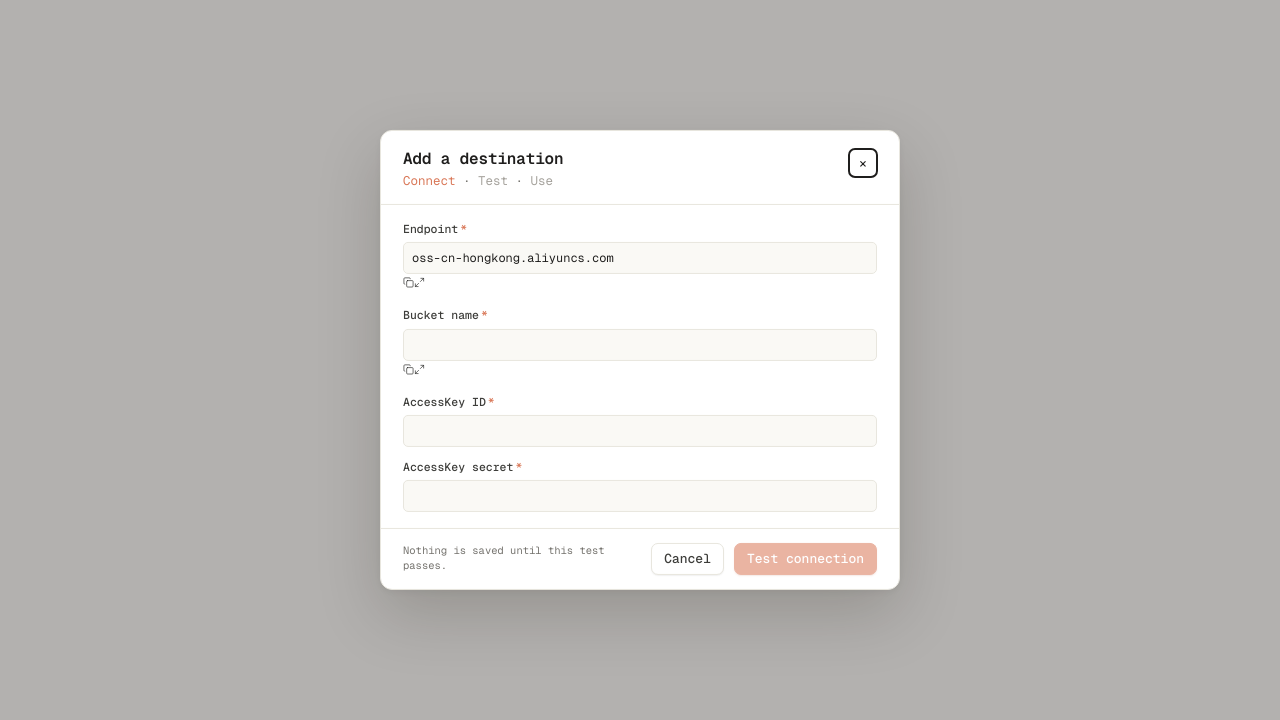
Scenario: AddDestinationDialog › says a class is being taken from another destination rather than newly claimed
This screenshot has width=1280, height=720.
Clear the field labelled "oss-cn-hongkong.aliyuncs.com" at (640, 258), box [403, 242, 877, 274]
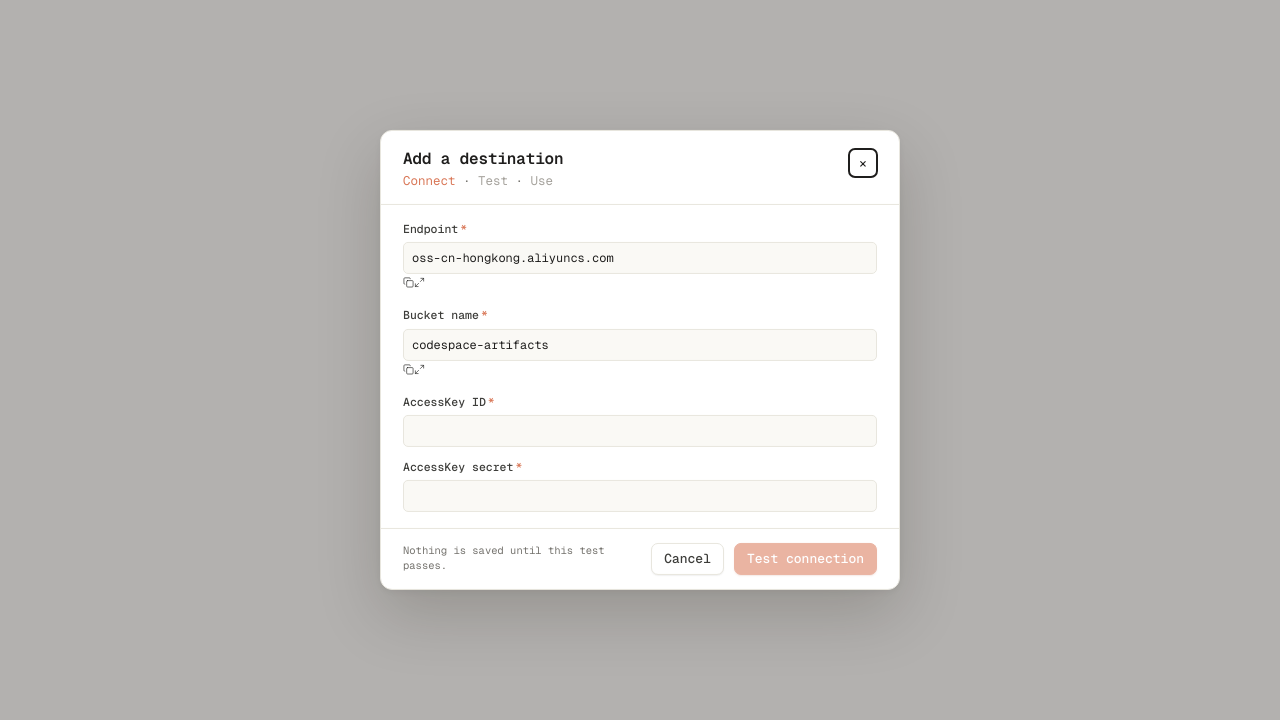
Type "LTAI5tExample" into the password field named "AccessKey ID" at (640, 431), box [403, 415, 877, 447]
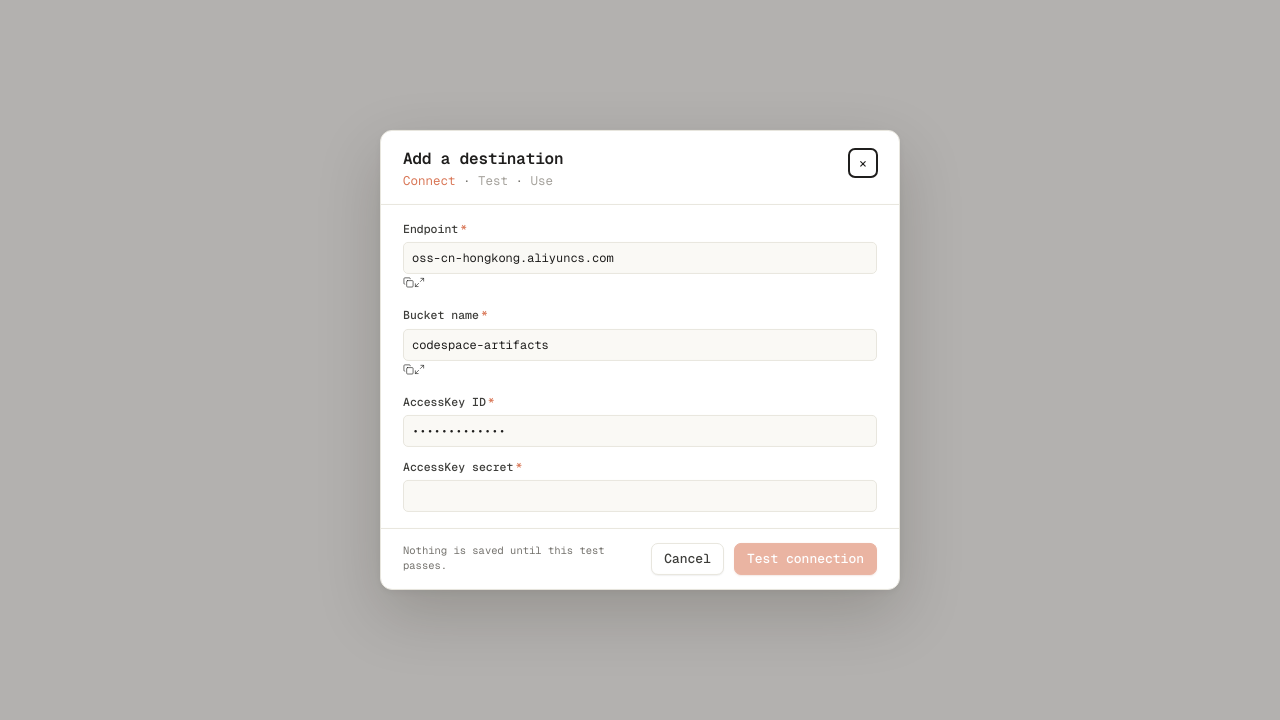
Type "secret-value" into the password field named "AccessKey secret" at (640, 496), box [403, 480, 877, 512]
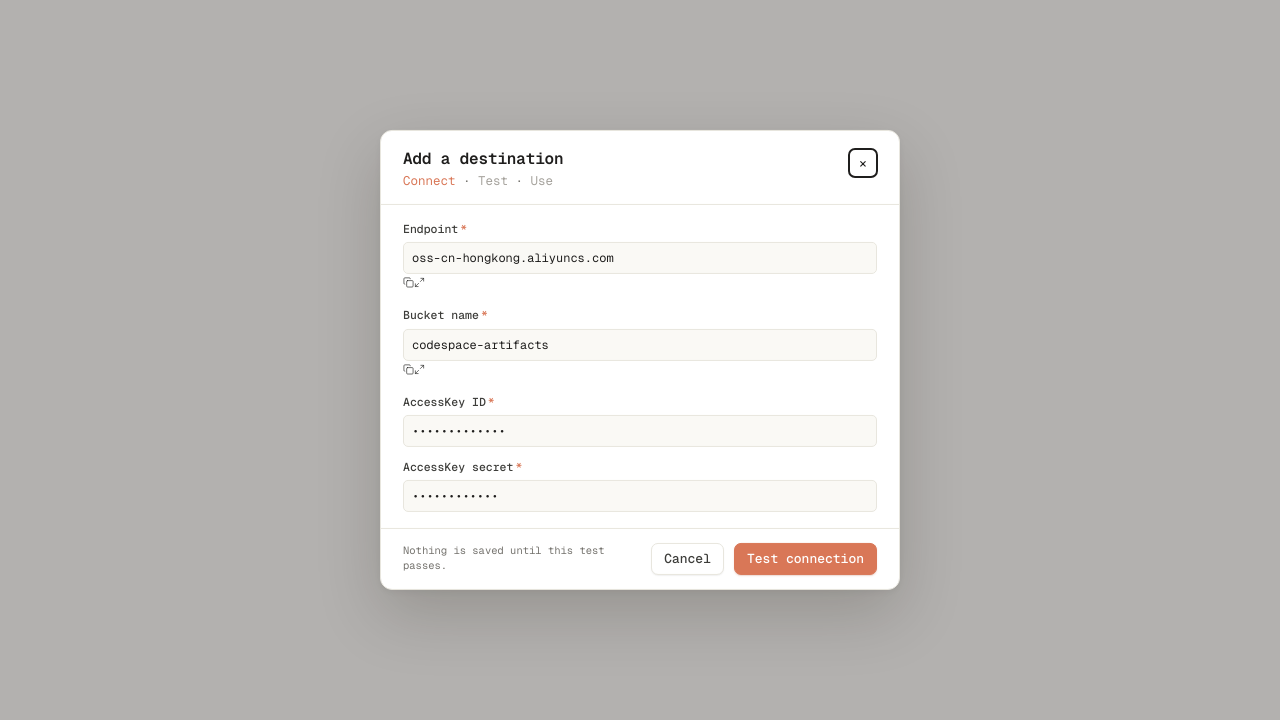
Click the button "Test connection" at (806, 559), box [734, 543, 877, 575]
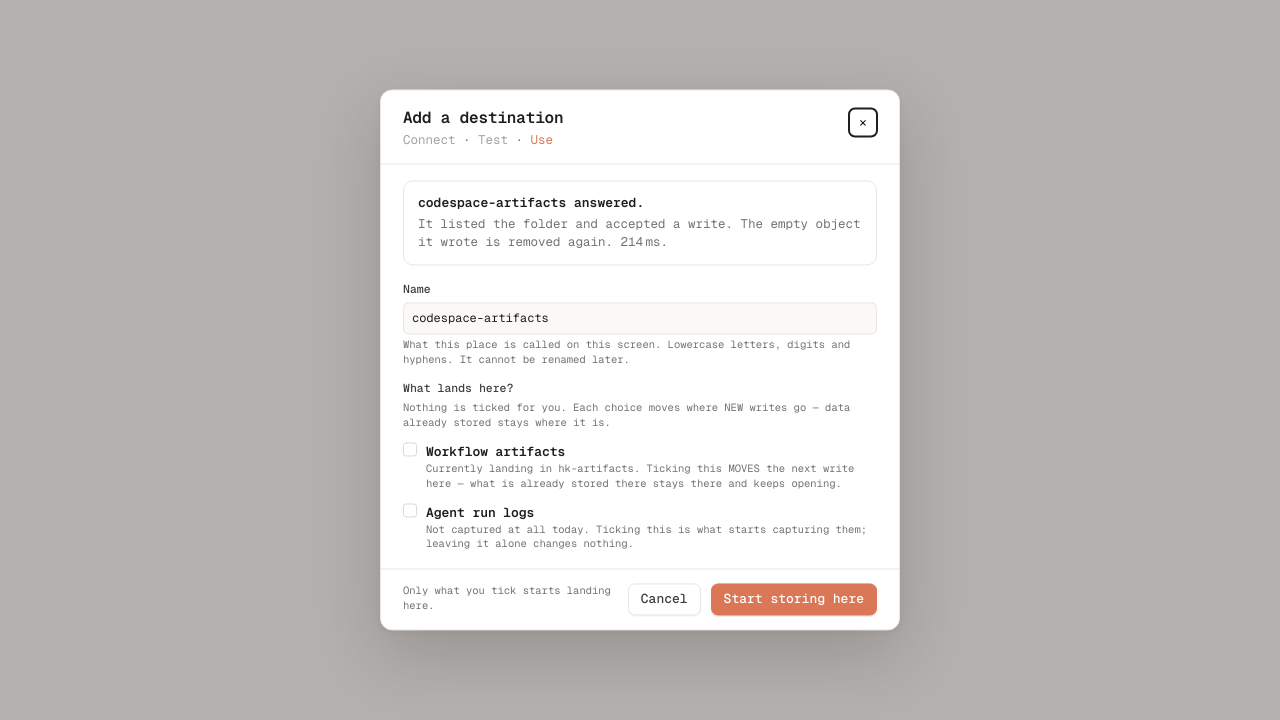
Result: the button "Start storing here" is shown at [711, 584, 877, 616]
Result: the text "Currently landing in hk-artifacts. Ticking this MOVES the next write here" is shown at [426, 462, 854, 491]
